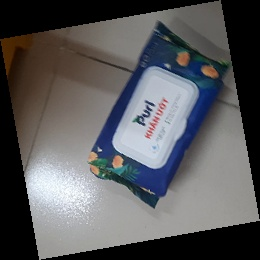Puri Xanh: (86, 19, 235, 211)
